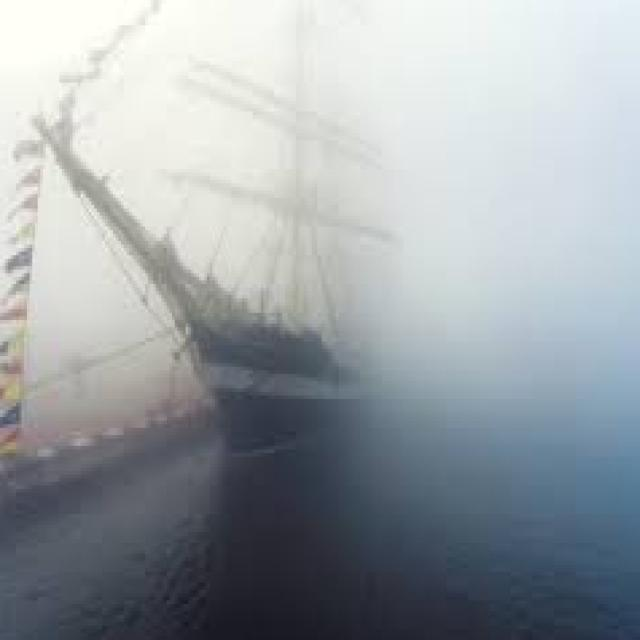fishing boat: (51, 13, 461, 443)
